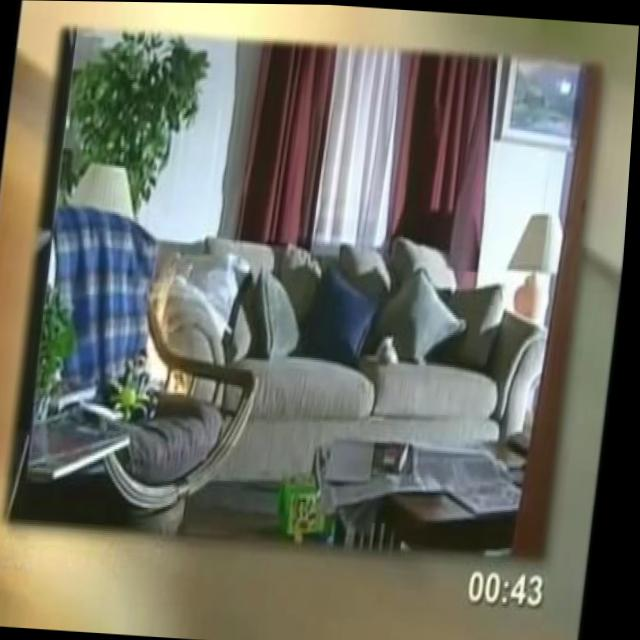fire: (139, 264, 210, 396)
